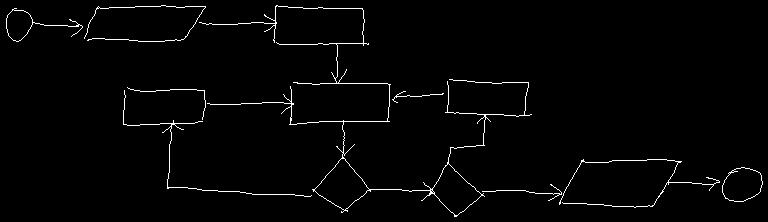arrow: (162, 120, 311, 196), (448, 114, 490, 162), (207, 94, 293, 113), (199, 14, 276, 31), (482, 184, 561, 200), (370, 182, 434, 200), (32, 19, 82, 36), (336, 120, 354, 158), (668, 177, 719, 190), (331, 43, 346, 83), (392, 91, 443, 102)
connection: (722, 167, 762, 201), (6, 8, 32, 41)
data: (559, 159, 681, 207), (84, 5, 205, 41)
decision: (312, 157, 370, 212), (428, 162, 484, 216)
process: (289, 82, 390, 124), (273, 5, 368, 45), (445, 79, 531, 116), (123, 87, 205, 125)
